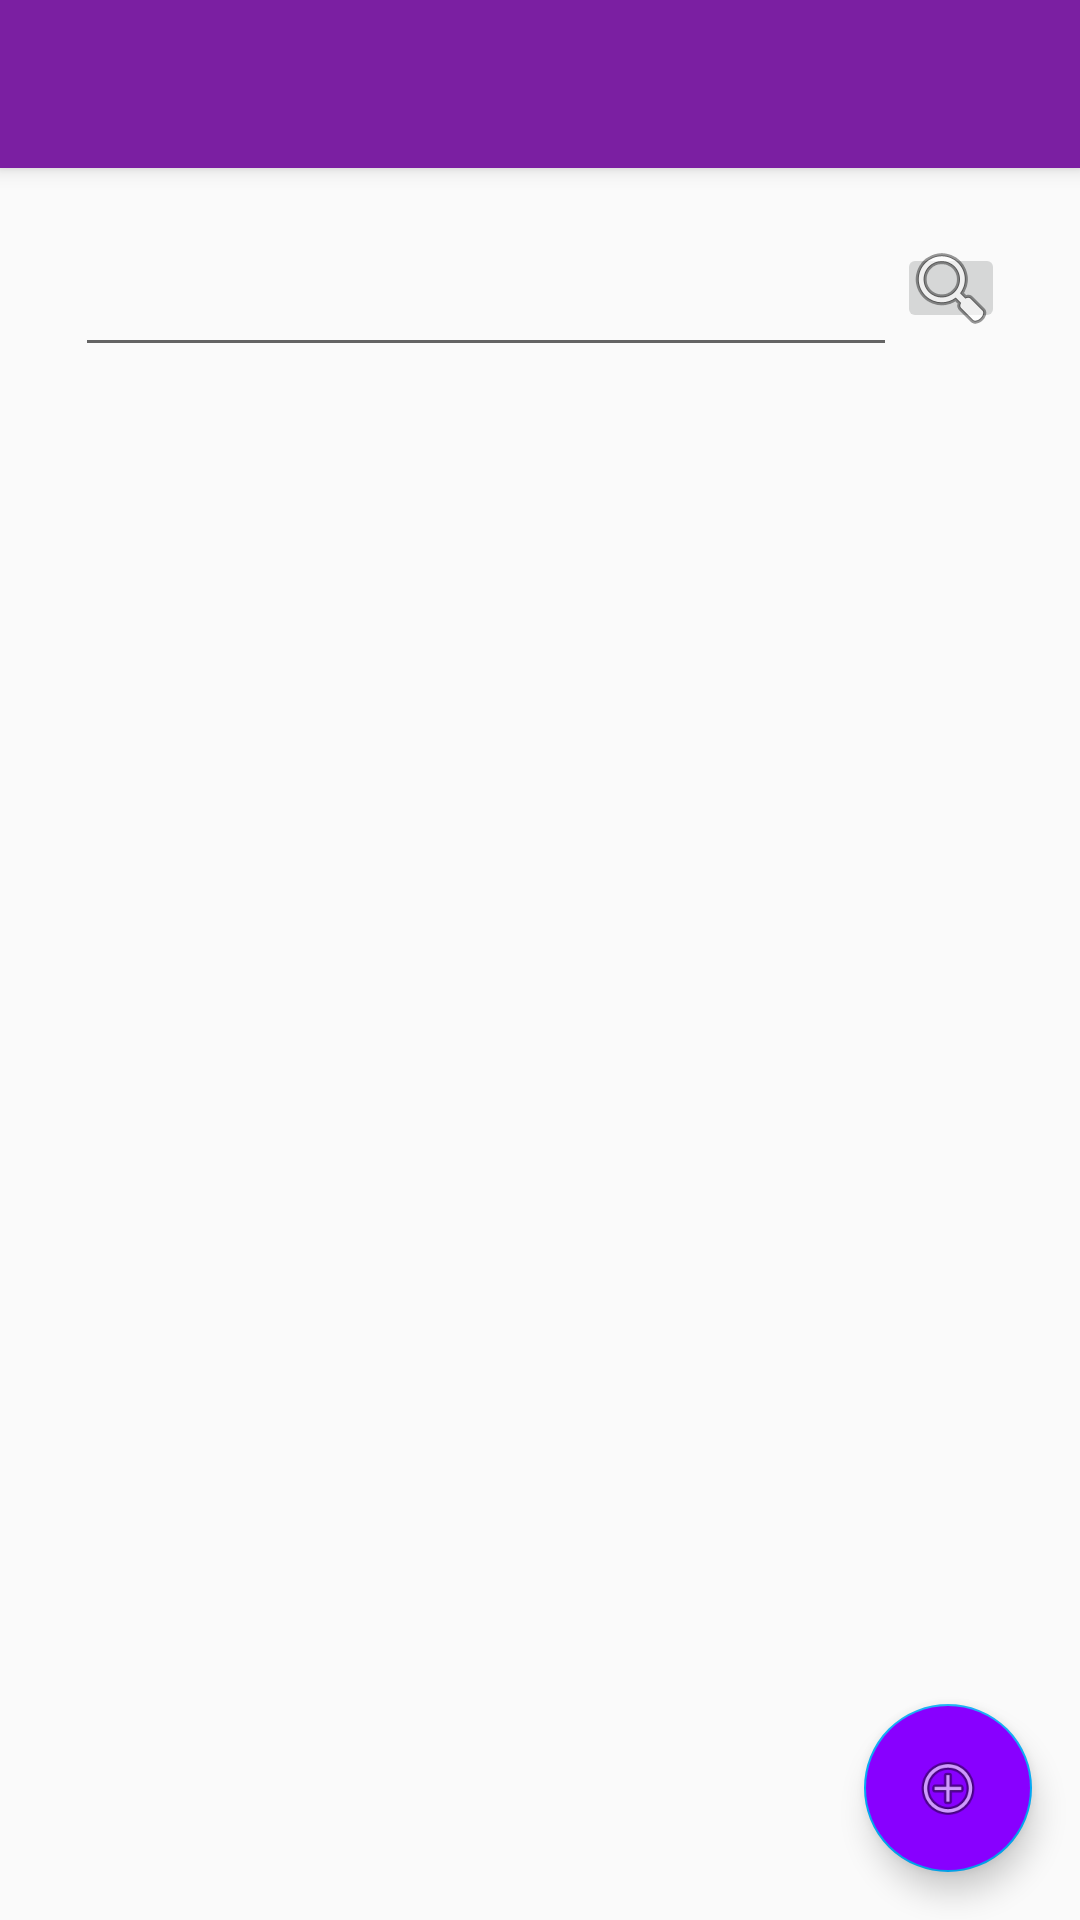

Screen size 1080w x 1920h. Icon name, then its center in pixels as (x,y):
add: (948,1788)
search: (951,288)
